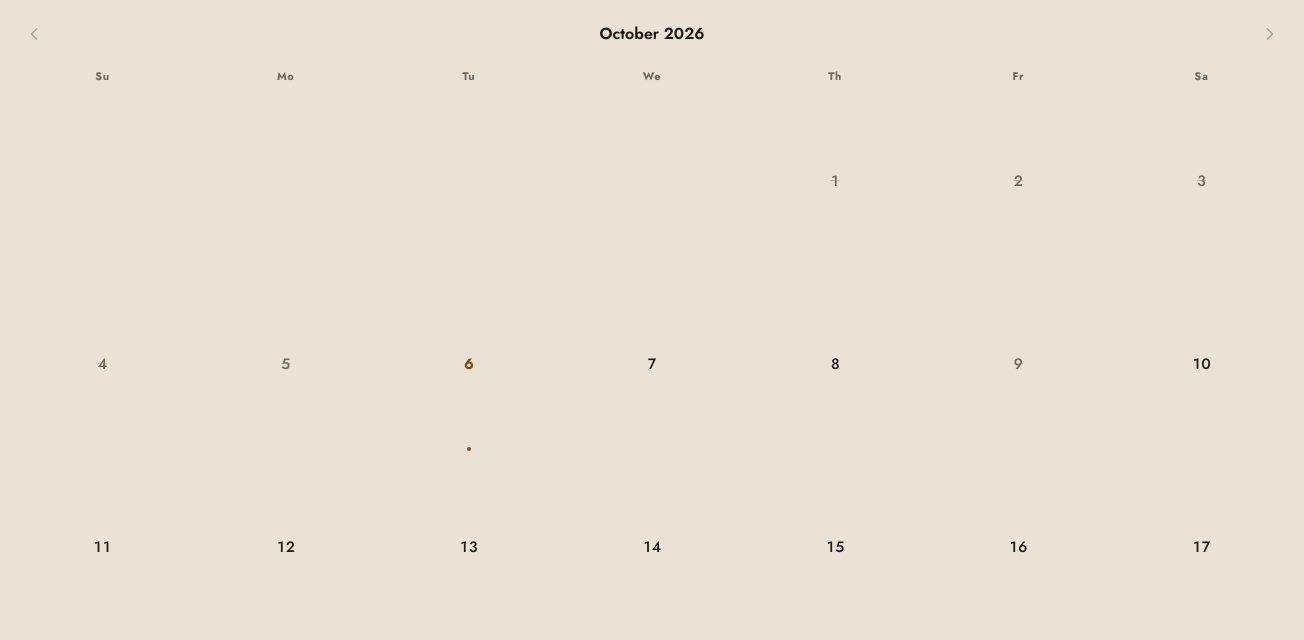
Test case: a day that is not on offer › uses the caller’s reason for a day it ruled out
Click the cell named "Friday 9 October".
click(1018, 364)  # box [928, 274, 1109, 455]
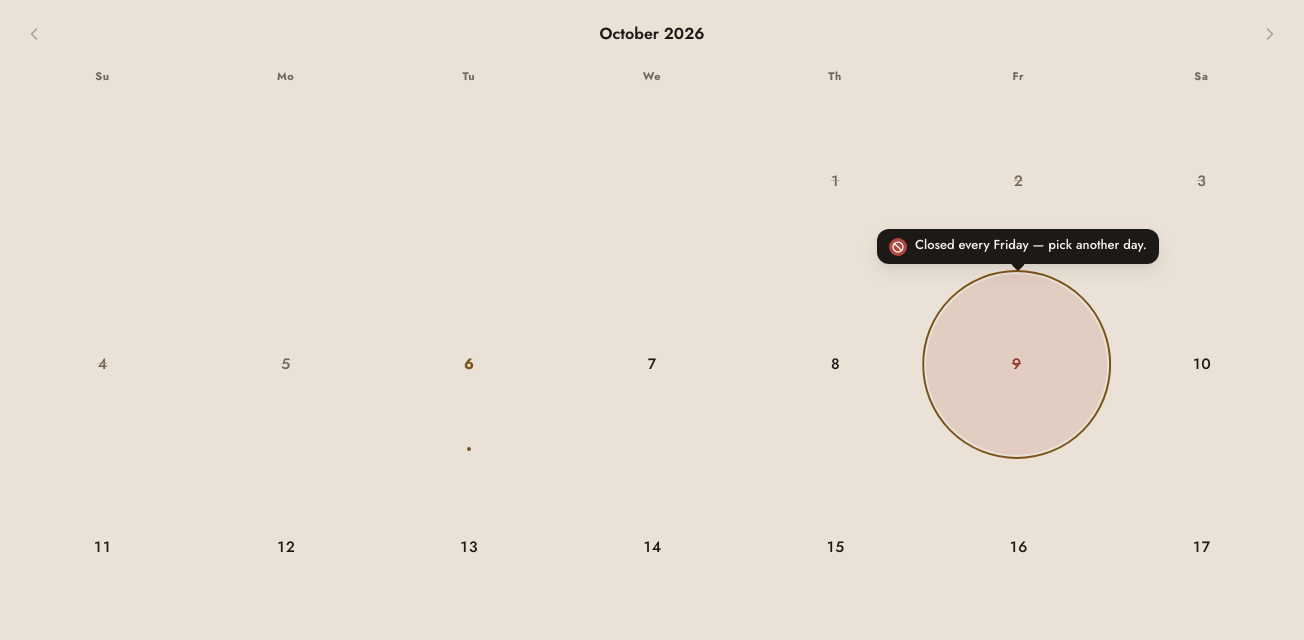
Result: the tooltip shows "Closed every Friday" at [915, 235, 1147, 254]
